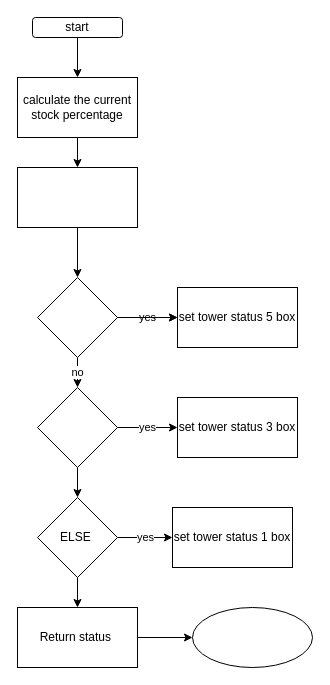
The diagram is 330 pixels wide and 685 high, and some of its shapes have lost their labels. The centre of each missing label's shape, as x and y in pixels:
"ELSE IF stock percentage < 60 AND >= 20" belongs at pixel 77 427.
"end" belongs at pixel 252 637.
"get the tower status" belongs at pixel 77 197.
"IF stock percentage > 60" belongs at pixel 77 317.
